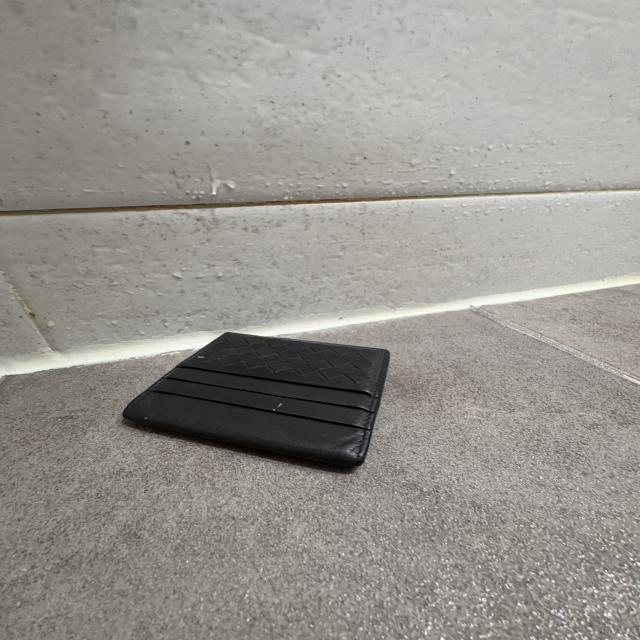wallet: (123, 330, 389, 474)
